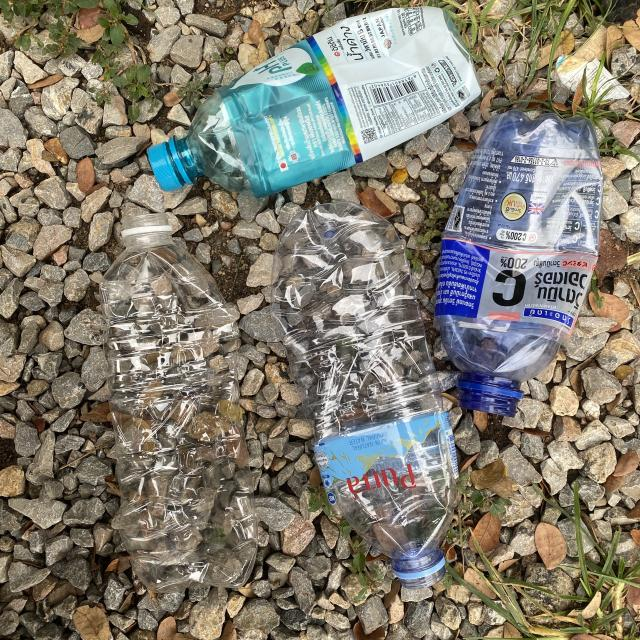plastik: (271, 202, 458, 589), (149, 8, 480, 198), (100, 214, 258, 595), (435, 111, 602, 415)
